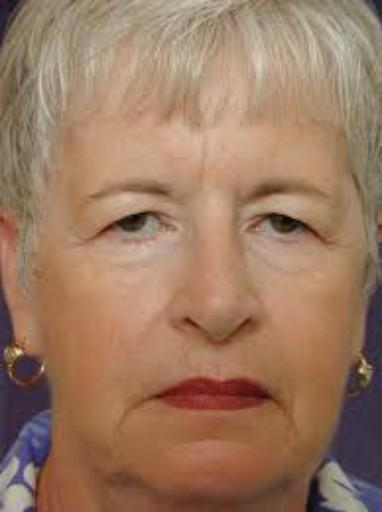left_eye: (244, 216, 319, 247)
left_lip_corner: (262, 386, 280, 409)
right_eye: (93, 209, 180, 249)
right_lip_corner: (134, 387, 169, 411)
